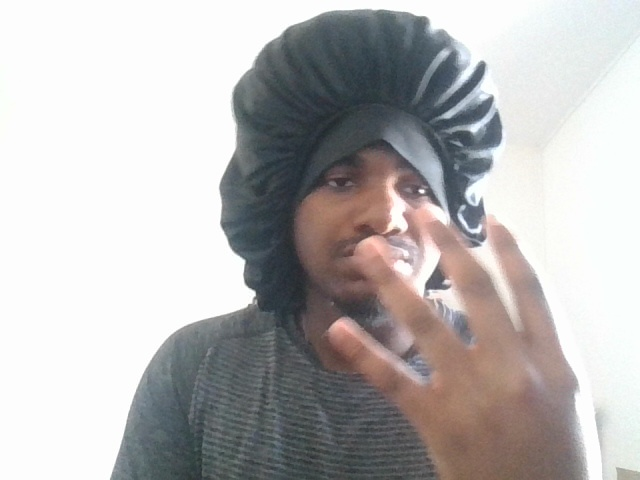I am Better Than Yu: (304, 202, 621, 459)
